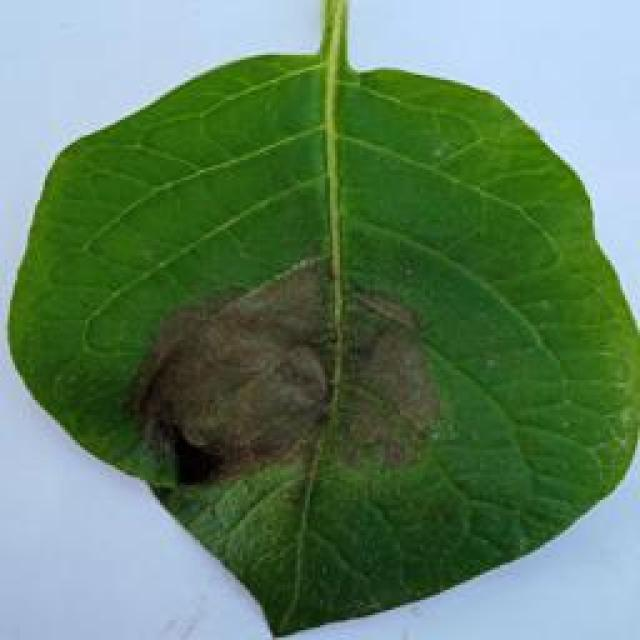Potato_Late_Blight: (6, 9, 627, 635)
